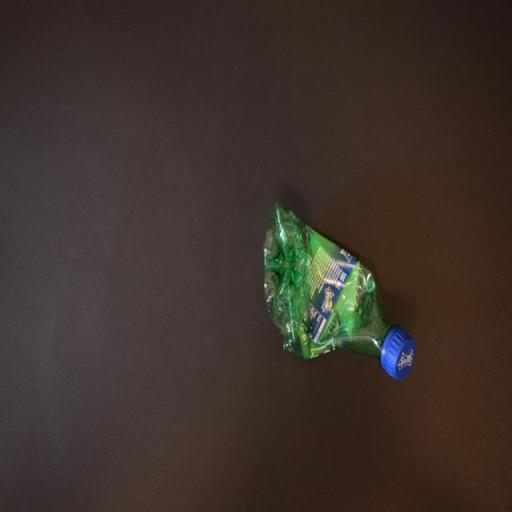plastic: (263, 203, 415, 385)
